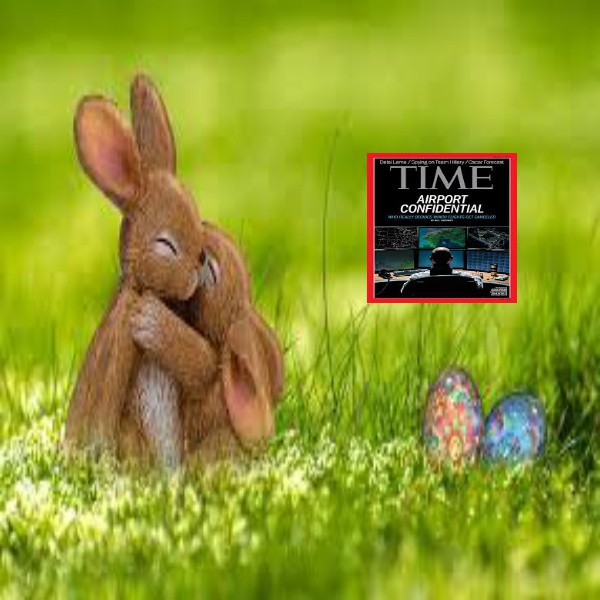time_cover: (370, 154, 518, 303)
